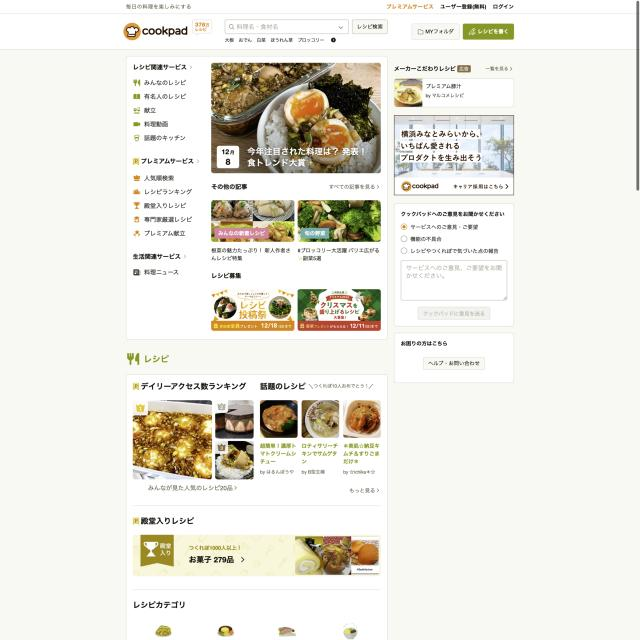logo: (122, 20, 190, 42)
navigation: (131, 172, 196, 240), (132, 75, 191, 142), (124, 2, 517, 12)
